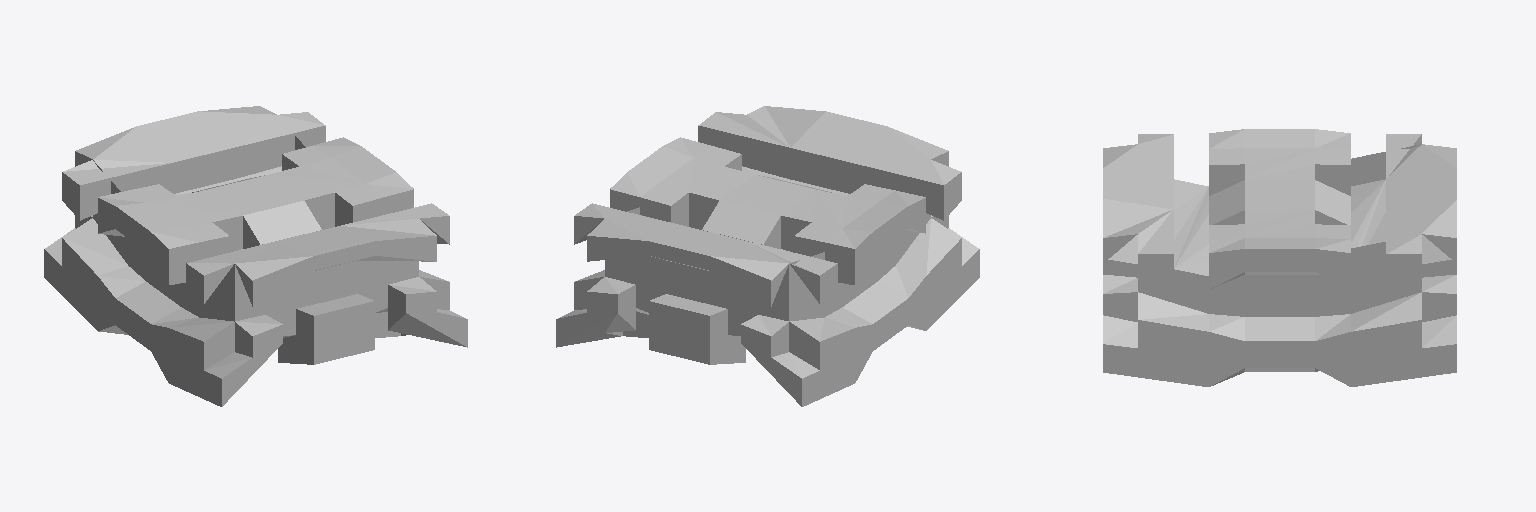
Rendered from RocketBot_LOD0-3.obj.
3 renders of one model, left to right at view 1: azimuth 30°, elevation 25°; view 2: azimuth 150°, elevation 25°; view 3: azimuth 270°, elevation 25°, orthographic.
Visible parts, largest first — view 1: RocketBot_LOD0-3; view 2: RocketBot_LOD0-3; view 3: RocketBot_LOD0-3.
Part boxes in pixels (bbox=[...]): RocketBot_LOD0-3: bbox=[44, 106, 467, 406]; RocketBot_LOD0-3: bbox=[556, 106, 979, 406]; RocketBot_LOD0-3: bbox=[1103, 129, 1456, 386].
Bounding box in the file's own units: 0.8 × 0.4497 × 1.